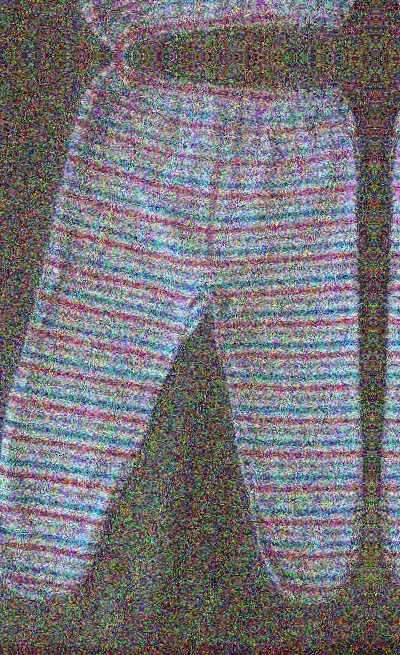Pants: (0, 76, 368, 621), (0, 0, 374, 37), (379, 79, 400, 625), (384, 0, 400, 41)
